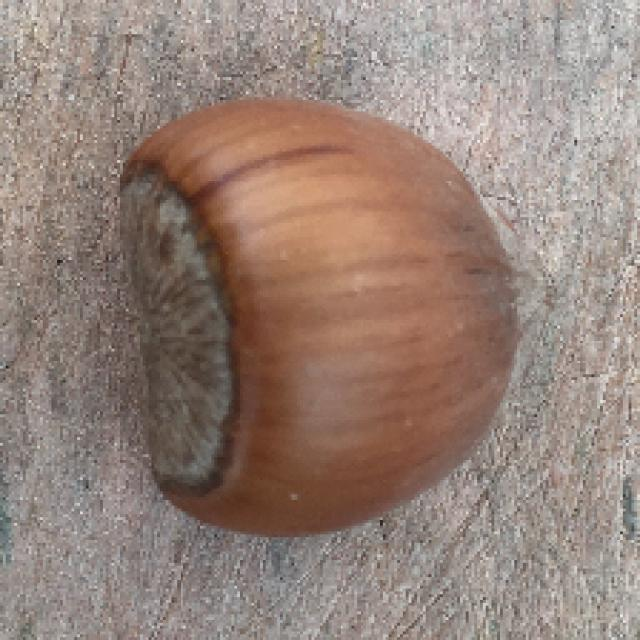qualityHazelnut: (99, 86, 546, 536)
